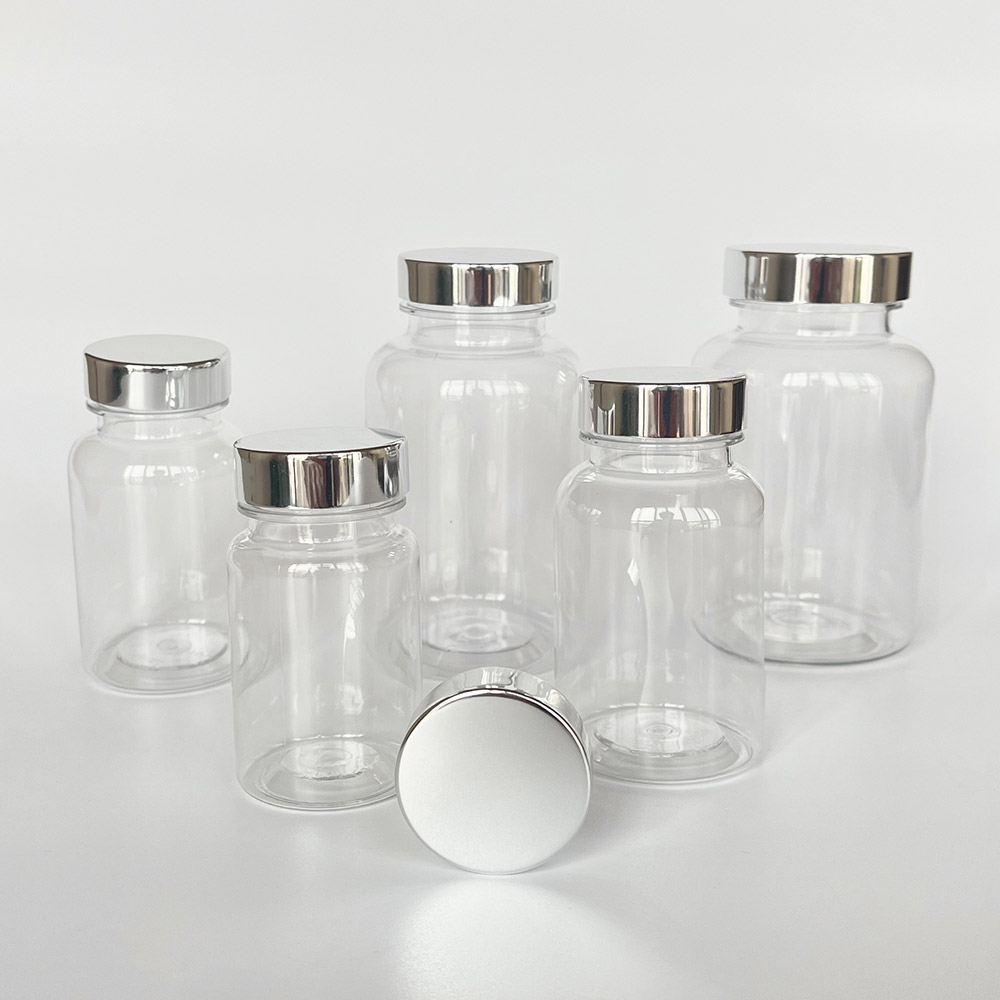medicinejar: (701, 238, 934, 677), (364, 238, 587, 657), (552, 368, 776, 770), (227, 432, 416, 808), (66, 333, 252, 688)
